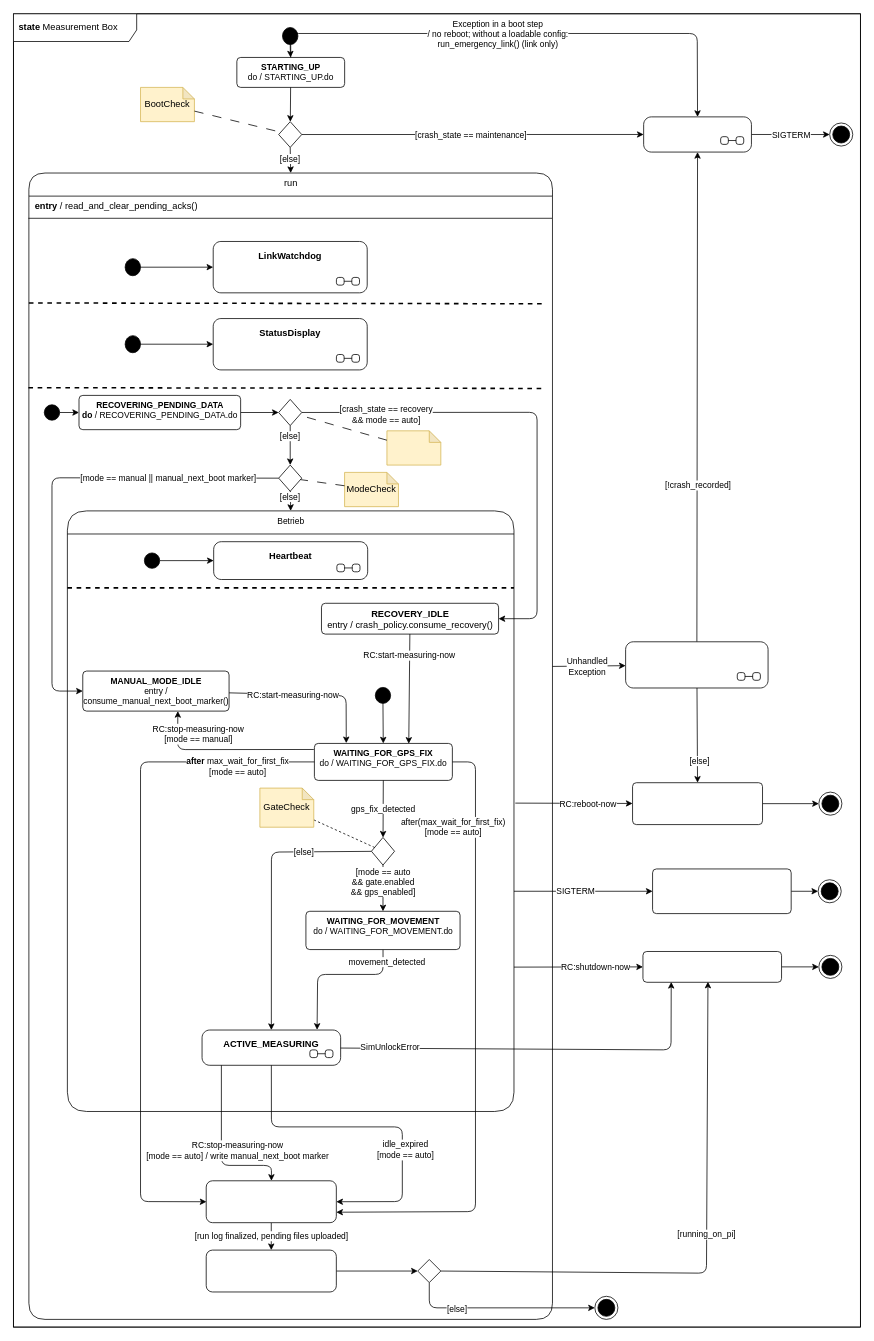
Image size: 874x1341. Some labels were removed from this diagram. The centre of each missing label's shape, as x and y in pixels:
CrashCheck: (x=413, y=447)
CRITICAL_ERROR: (x=697, y=134)
DONE entry / run_phase.set(DONE): (x=270, y=1270)
FINALIZING do / FINALIZING.do: (x=270, y=1201)
REBOOTING do / reboot(reason): (x=697, y=803)
SHUTTING_DOWN do / SHUTTING_DOWN.do: (x=712, y=966)
STOPPING do / finalize_and_upload_pending() (no shutdown, no reboot): (x=721, y=891)
UNHANDLED_EXCEPTION: (x=696, y=664)
